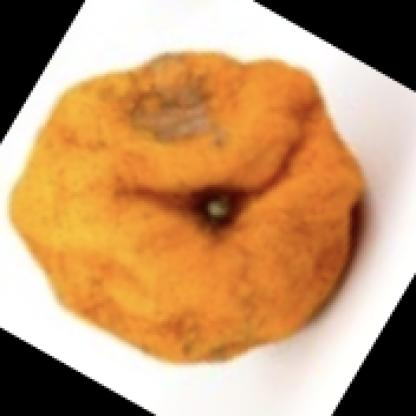rotten: (11, 53, 369, 369)
